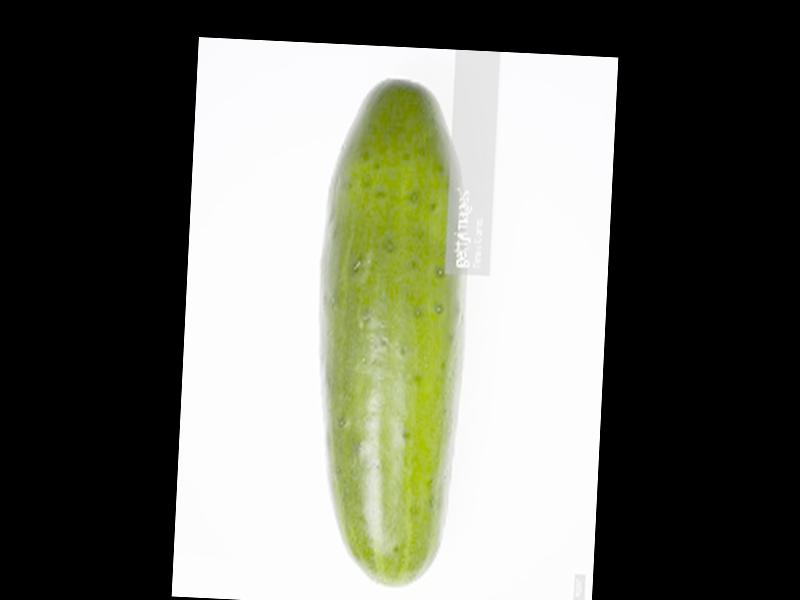Cucumber: (304, 70, 476, 592)
